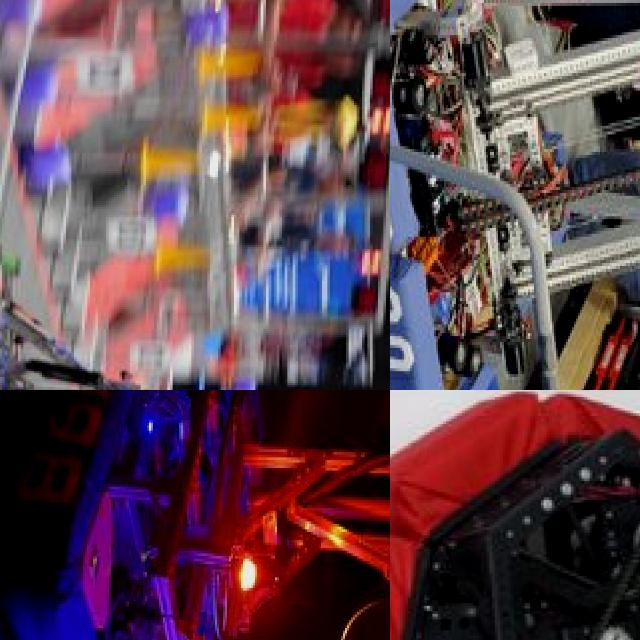FRC-Robots: (390, 0, 640, 390), (0, 390, 390, 640), (390, 390, 640, 640), (0, 243, 169, 390)
